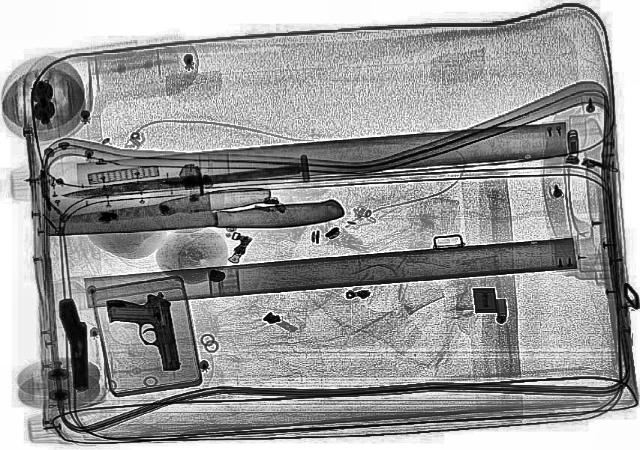Gun: (102, 292, 184, 374), (54, 297, 98, 392)
Knife: (38, 179, 346, 241), (47, 184, 275, 228), (56, 163, 302, 201)
